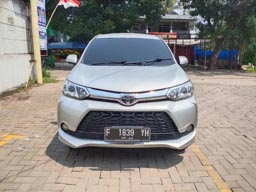plat: (106, 126, 152, 137)
